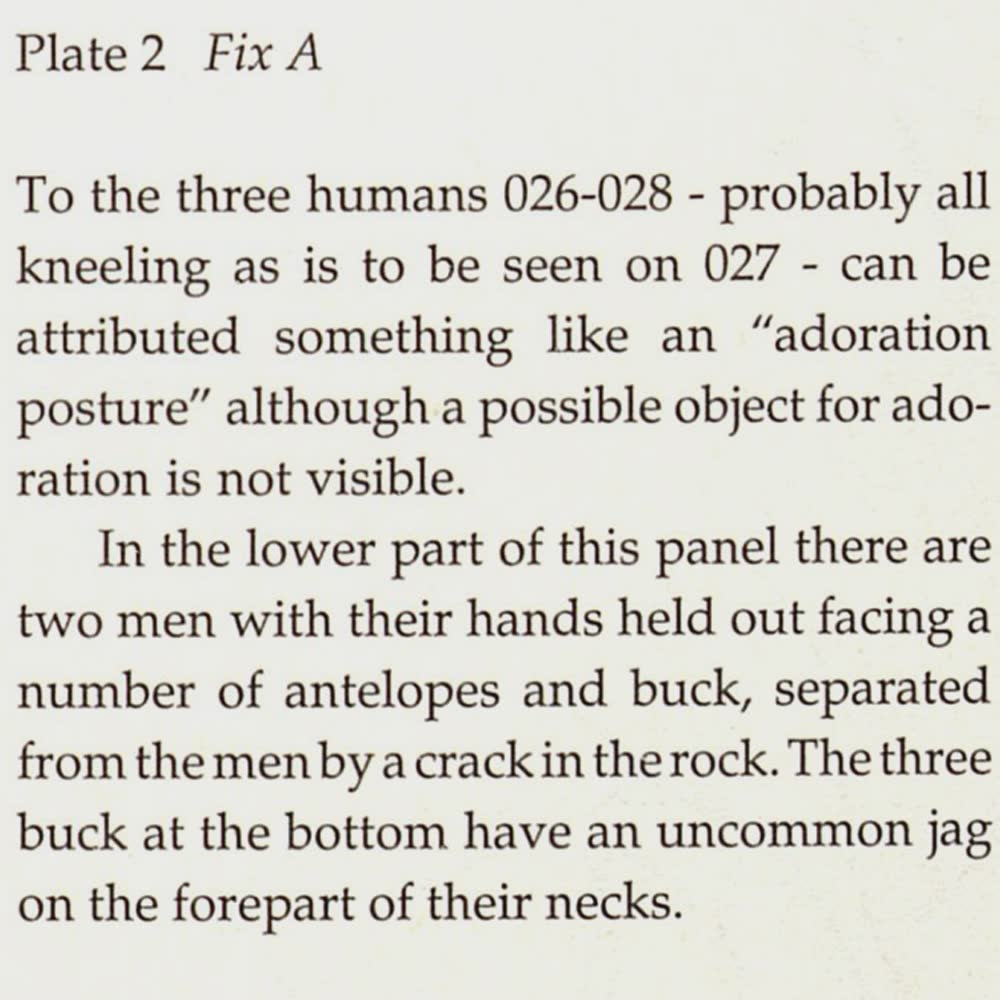text: (6, 21, 999, 937)
